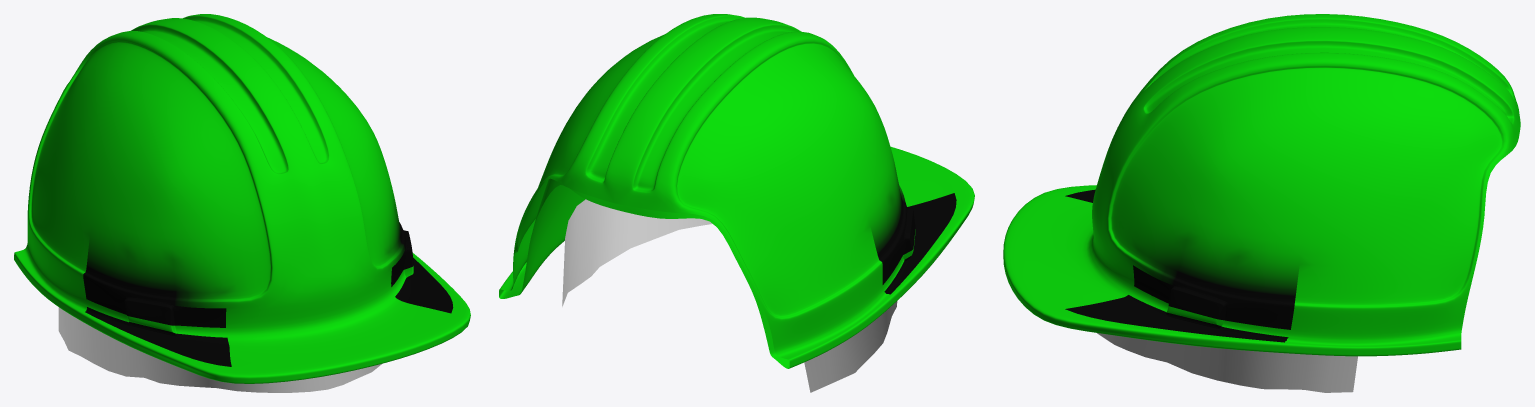
File: Engineer.fbx
3 views of the same model, side by side, from view 1: azimuth 30°, elevation 25°; view 2: azimuth 150°, elevation 25°; view 3: azimuth 270°, elevation 25° (orthographic). The views are drawn at different scales.
Visible parts, largest first — view 1: Engineer, Shadow3; view 2: Engineer, Shadow3; view 3: Engineer, Shadow3.
Boxes of the visible parts, x1=… form: Engineer: x1=14, y1=14, x2=470, y2=383; Shadow3: x1=58, y1=307, x2=381, y2=392; Engineer: x1=499, y1=14, x2=974, y2=368; Shadow3: x1=562, y1=199, x2=897, y2=392; Engineer: x1=1003, y1=14, x2=1520, y2=356; Shadow3: x1=1097, y1=333, x2=1357, y2=392.
Size of the model in its own units: 205 by 176 by 277.
